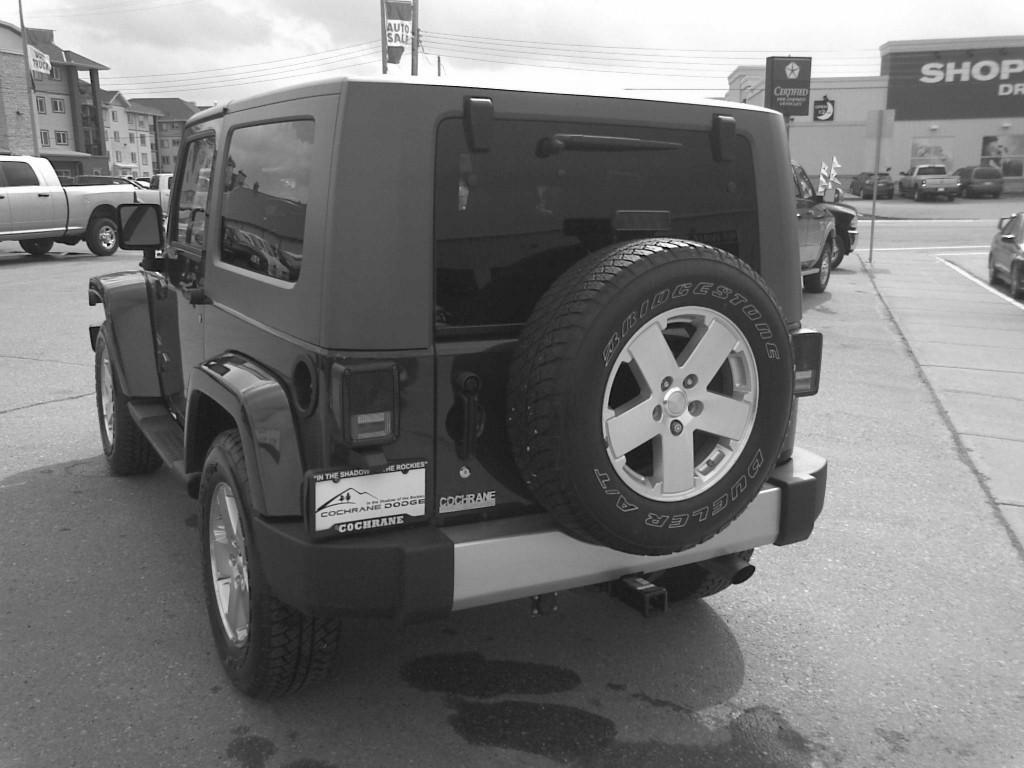car: (87, 80, 827, 700)
